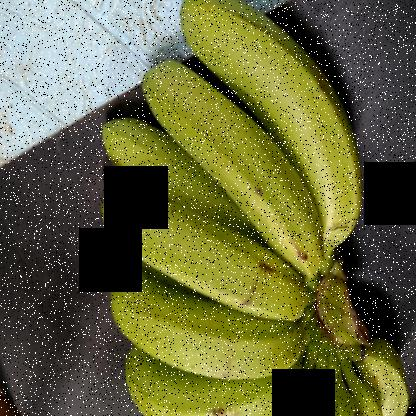freshunripe: (175, 1, 372, 248), (97, 265, 301, 385), (92, 115, 220, 223)
unripe: (99, 192, 312, 326), (109, 358, 299, 415)
